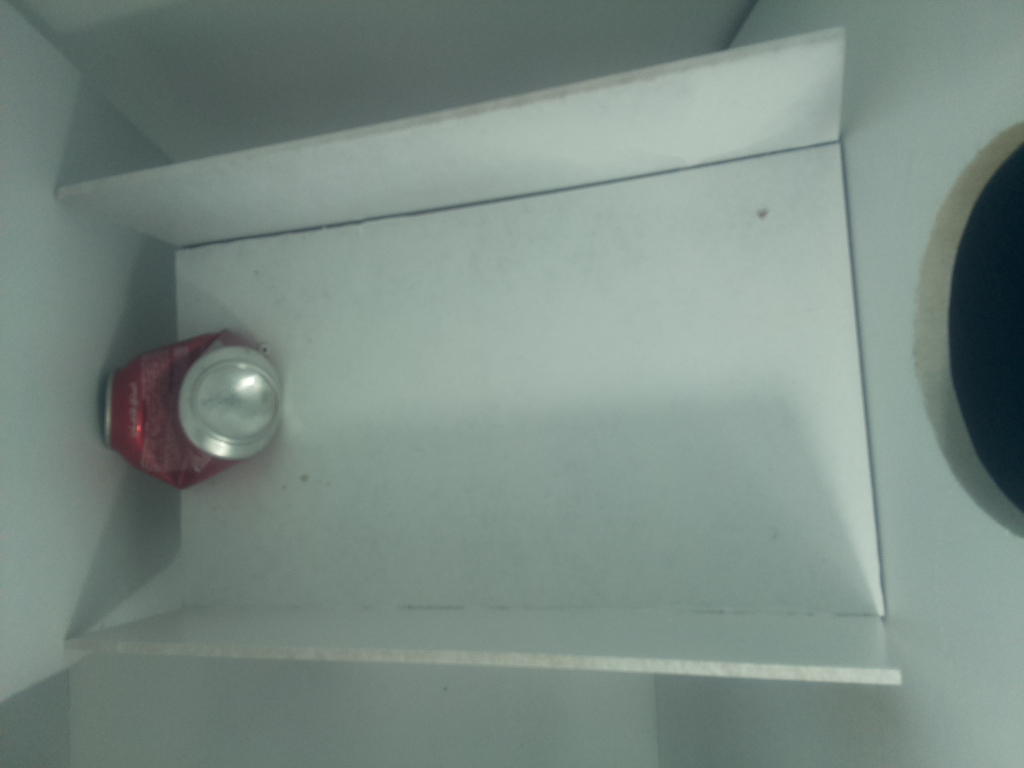kaleng: (104, 329, 284, 488)
